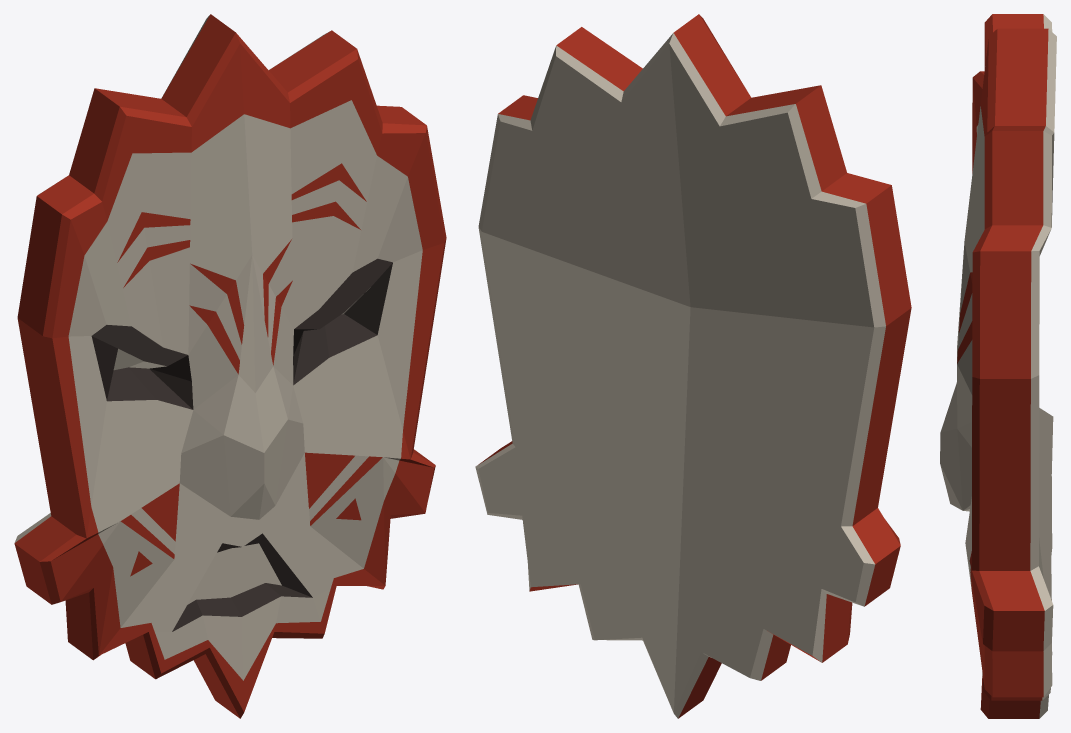
File: sunMask.glb
3 renders of one model, left to right at view 1: azimuth 30°, elevation 25°; view 2: azimuth 150°, elevation 25°; view 3: azimuth 270°, elevation 25°, orthographic.
Parts seen in each view (by area): view 1: Plane; view 2: Plane; view 3: Plane.
Boxes of the visible parts, box(x1,y1,x2,y2) form: Plane: box(14, 14, 446, 718); Plane: box(475, 14, 911, 718); Plane: box(940, 14, 1056, 718).
Bounding box in the file's own units: 0.3979 × 0.6434 × 0.0988.
